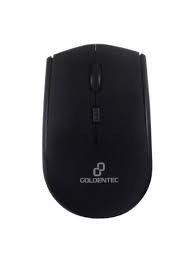mouse: (40, 46, 155, 221)
